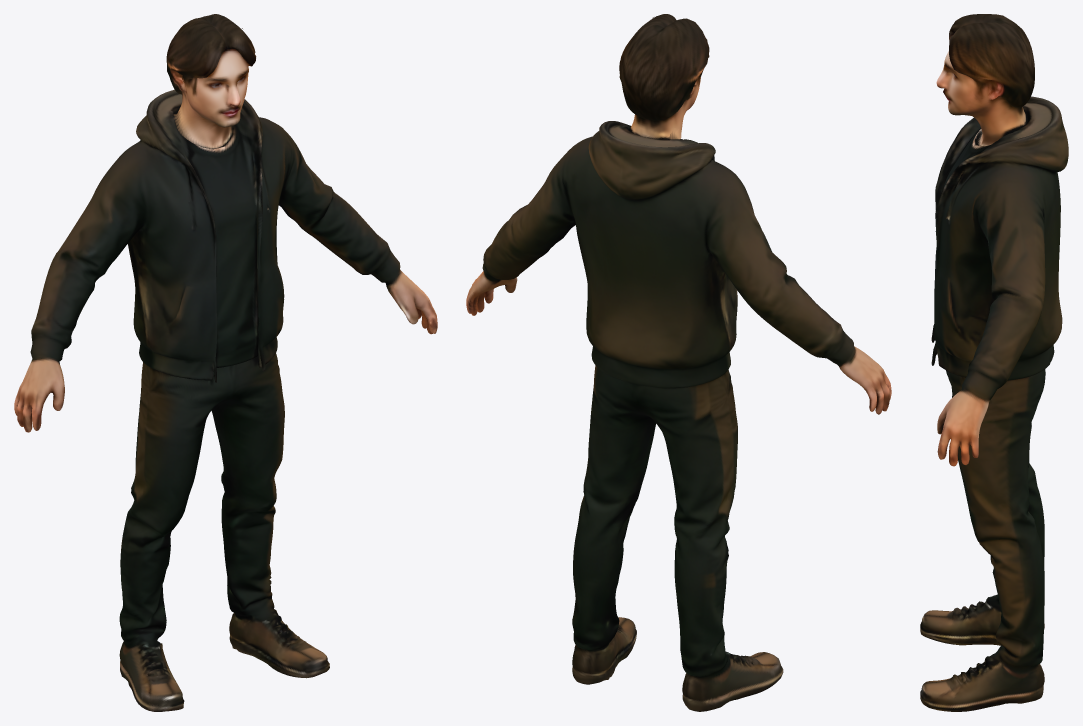
File: base_basic_shaded.fbx
The picture shows the model from 3 angles, left to right: view 1: azimuth 30°, elevation 25°; view 2: azimuth 150°, elevation 25°; view 3: azimuth 270°, elevation 25°; orthographic projection.
Visible parts, largest first — view 1: model; view 2: model; view 3: model.
Part boxes in pixels (x1,y1,x2,y2): model: [14, 14, 437, 711]; model: [466, 14, 891, 711]; model: [920, 14, 1068, 711].
Size of the model in its own units: 112 by 170 by 35.14.
